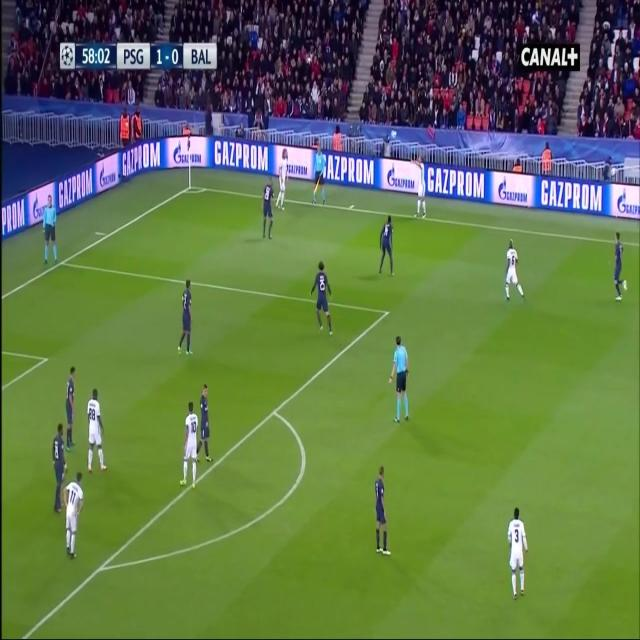Ball: (390, 128, 398, 142)
Player: (61, 471, 85, 564), (506, 504, 529, 600), (85, 387, 109, 475), (178, 399, 200, 492), (309, 260, 333, 336), (373, 466, 392, 558), (49, 422, 67, 516), (176, 278, 194, 360), (502, 238, 525, 302), (195, 382, 212, 464), (64, 364, 78, 452), (377, 214, 395, 280), (613, 230, 629, 304), (273, 147, 289, 212), (412, 155, 428, 218), (262, 179, 274, 243)
Referee: (388, 337, 411, 425), (42, 193, 58, 270), (310, 143, 327, 209)
